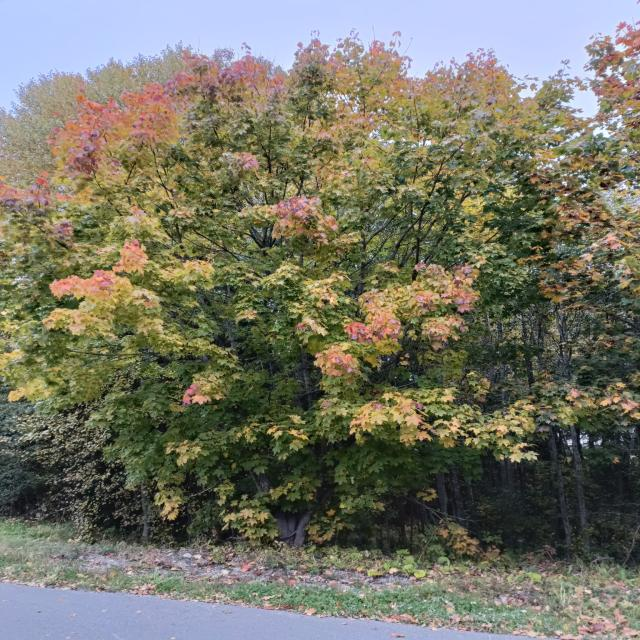Tree-detection: (1, 0, 563, 568)
